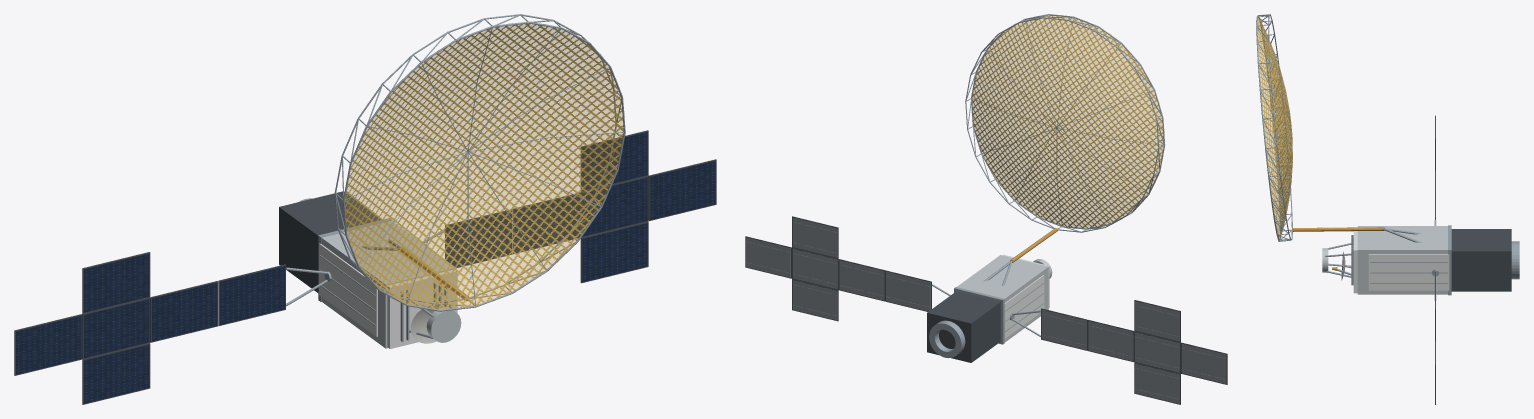
The model's file is ssl-1300-mobile-12m.glb.
3 views of the same model, side by side, from view 1: azimuth 30°, elevation 25°; view 2: azimuth 150°, elevation 25°; view 3: azimuth 270°, elevation 25° (orthographic). The views are drawn at different scales.
Parts seen in each view (by area): view 1: Deployable mesh reflector, Solar cell panel (×12), Service module, Payload module, Radiator face, Earth-facing deck, Antenna tower platform; view 2: Deployable mesh reflector, Rear array substrate (×12), Service module, Payload module, Radiator face, Launch adapter ring; view 3: Deployable mesh reflector, Service module, Payload module, Radiator face, Reflector deployment boom, Launch adapter ring, Earth-facing deck, Module interface.
Part boxes in pixels (x1,y1,x2,y2): Deployable mesh reflector: (344,23,624,309); Solar cell panel (×12): (16,132,715,403); Service module: (279,191,380,292); Payload module: (321,220,455,348); Radiator face: (319,243,377,336); Earth-facing deck: (387,269,457,348); Antenna tower platform: (426,307,461,342); Deployable mesh reflector: (971,15,1164,228); Rear array substrate (×12): (746,217,1226,403); Service module: (927,291,1000,362); Payload module: (957,255,1048,342); Radiator face: (1004,275,1044,339); Launch adapter ring: (929,320,965,358); Deployable mesh reflector: (1257,18,1292,239); Service module: (1451,229,1511,291); Payload module: (1357,226,1447,294); Radiator face: (1368,254,1449,290); Reflector deployment boom: (1292,227,1384,231); Launch adapter ring: (1511,241,1519,279); Earth-facing deck: (1353,231,1357,293); Module interface: (1448,225,1451,295).
Bounding box in the file's own units: 29.97 × 16.51 × 13.9.
9 materials, 2 textured.
